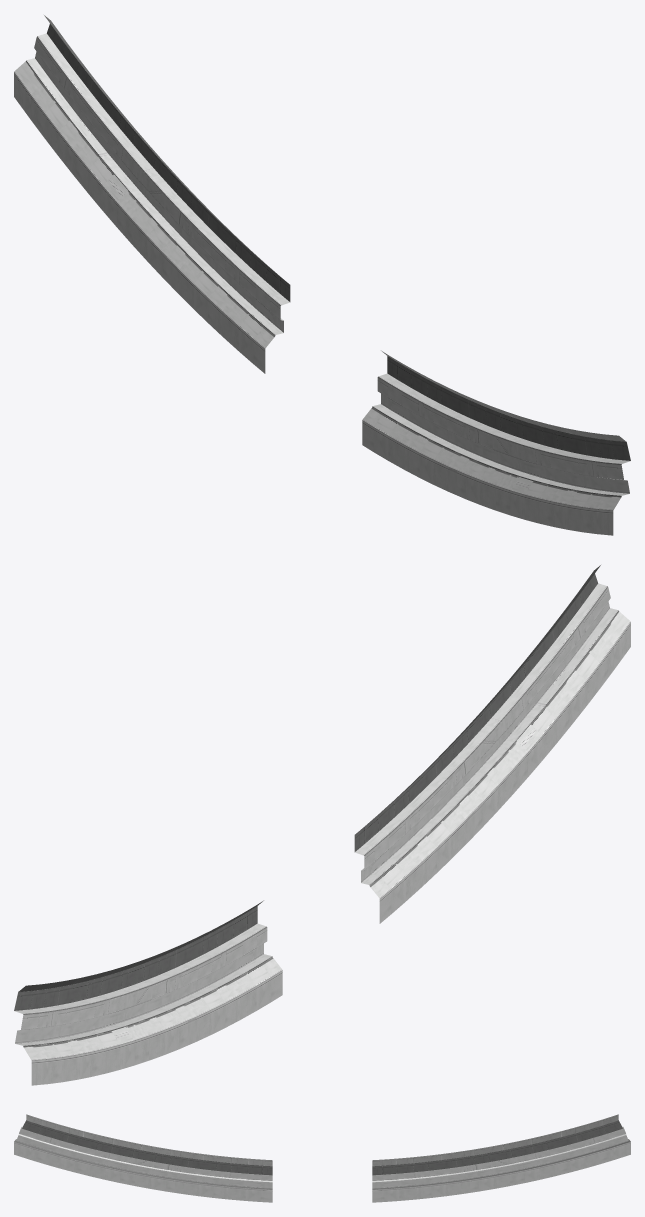
File: PRS_WallBottom04.FBX
3 renders of one model, top to bottom at view 1: azimuth 30°, elevation 25°; view 2: azimuth 150°, elevation 25°; view 3: azimuth 270°, elevation 25°, orthographic. The views are drawn at different scales.
Parts seen in each view (by area): view 1: PRS_WallBottom04; view 2: PRS_WallBottom04; view 3: PRS_WallBottom04.
Boxes of the visible parts, box(x1,y1,x2,y2) form: PRS_WallBottom04: box(14, 15, 630, 535); PRS_WallBottom04: box(14, 565, 630, 1085); PRS_WallBottom04: box(14, 1114, 630, 1202).
Size of the model in its own units: 56.55 by 388 by 2337.
